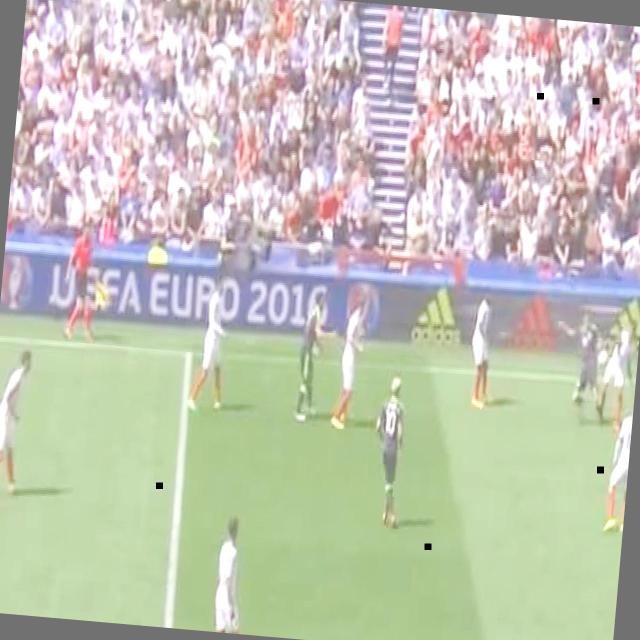ball: (598, 347, 612, 369)
player-white: (547, 305, 609, 428), (367, 374, 411, 532), (291, 288, 339, 426), (186, 280, 233, 418), (210, 515, 260, 635), (329, 296, 372, 434), (594, 319, 640, 438), (0, 344, 33, 502), (60, 223, 103, 343), (464, 283, 500, 413), (602, 401, 634, 531)
